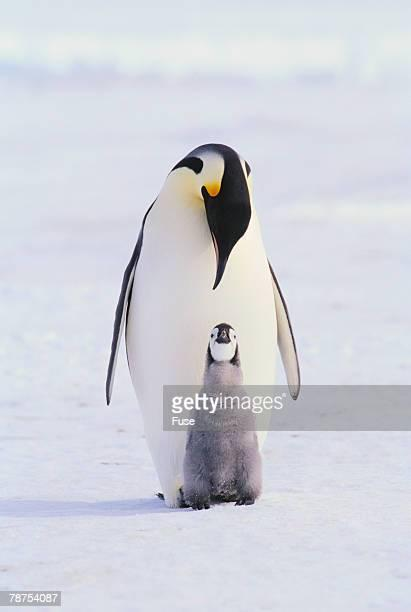emporer: (102, 130, 322, 493)
